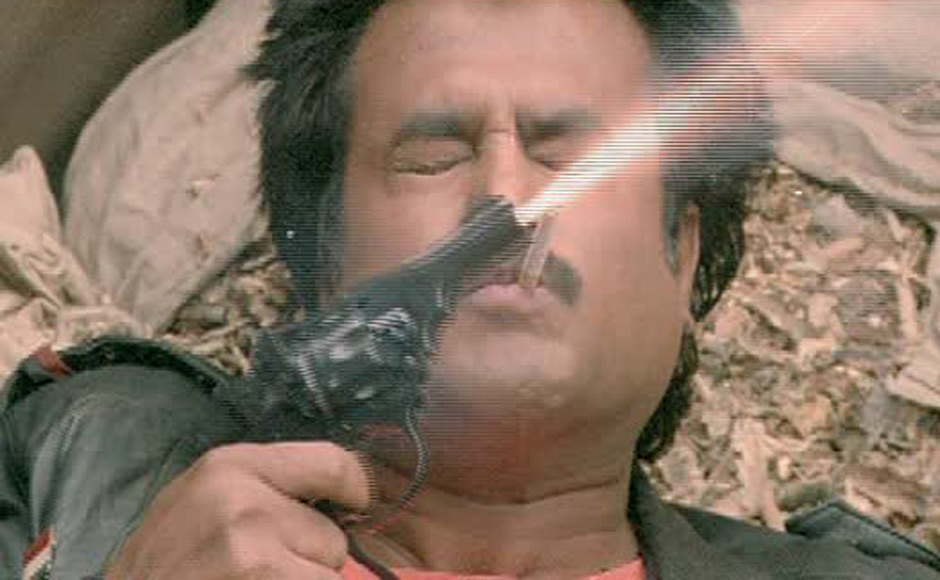cigarette: (516, 207, 568, 305)
